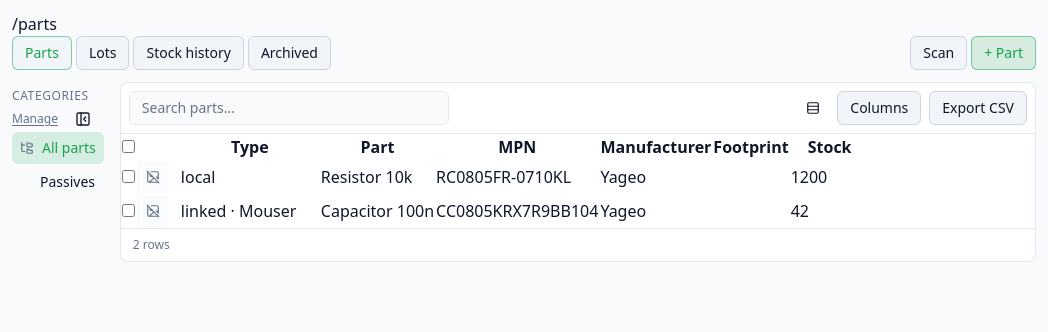
parts list preview pane › selecting a row sets ?sel= instead of navigating away
Click the text "Resistor 10k" at (495, 177), box [121,160,870,194]
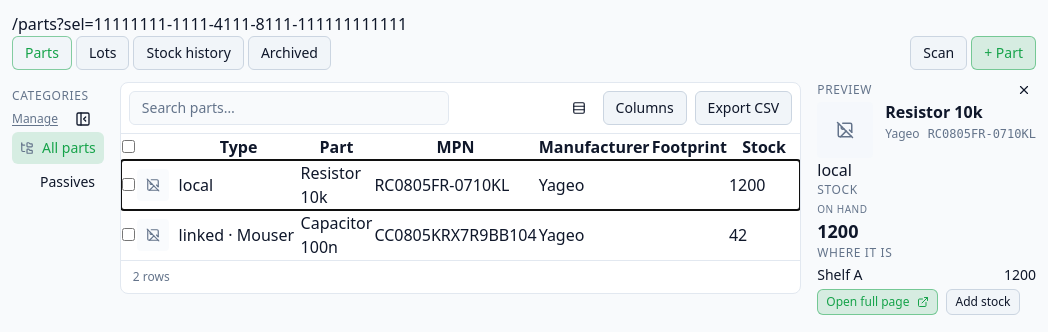
Expected: the element with test id "part-preview-pane" is shown, [817,82,1036,315]
